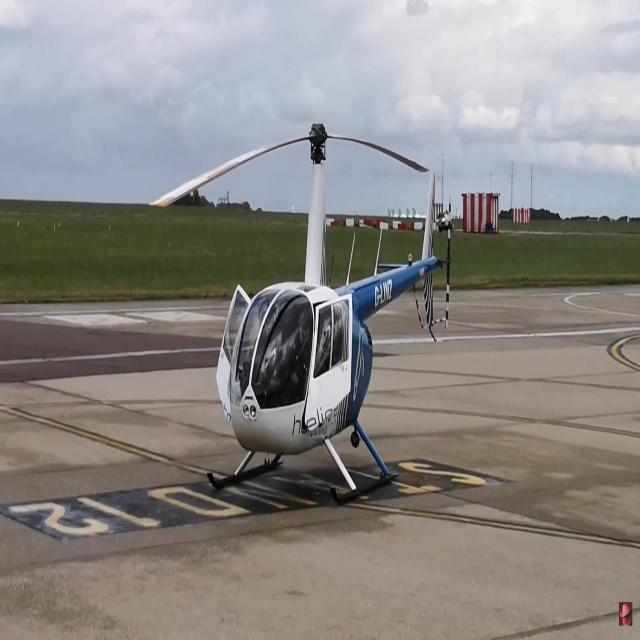CIV_HELO: (206, 119, 444, 511)
